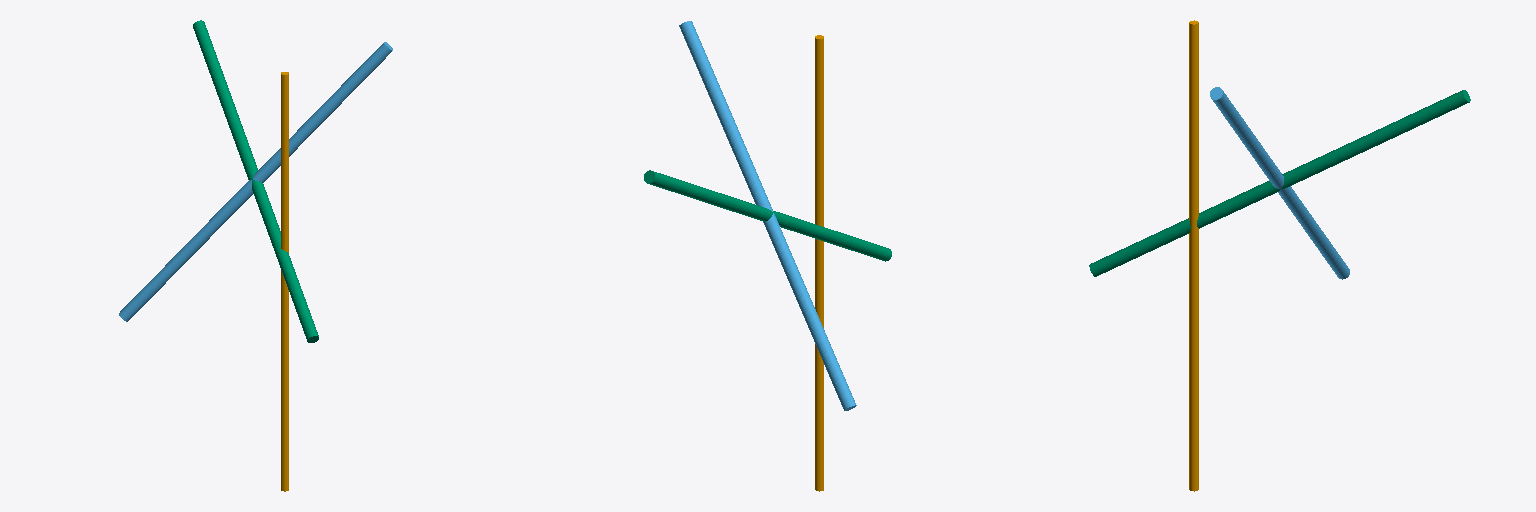
robot.urdf — pepe:
<?xml version="1.0"?><robot name="pepe">
	<link name="0">
		<visual>
			<geometry>
				<cylinder length="5.9994" radius="0.05622985604668819"/>
			</geometry>
		</visual>
		<collision>
			<geometry>
				<cylinder length="5.9994" radius="0.05622985604668819"/>
			</geometry>
		</collision>
		<inertial>
			<mass value="0.059592504070729656"/>
			<inertia ixx="0.03" iyy="0.03" izz="0.03" ixy="0" ixz="0" iyx="0"/>
		</inertial>
	</link>
	<link name="11">
		<visual>
			<geometry>
				<cylinder length="5.132033439318215" radius="0.08254070576775953"/>
			</geometry>
		</visual>
		<collision>
			<geometry>
				<cylinder length="5.132033439318215" radius="0.08254070576775953"/>
			</geometry>
		</collision>
		<inertial>
			<mass value="0.10984383983084968"/>
			<inertia ixx="0.03" iyy="0.03" izz="0.03" ixy="0" ixz="0" iyx="0"/>
		</inertial>
	</link>
	<link name="12">
		<visual>
			<geometry>
				<cylinder length="5.132033439318215" radius="0.08254070576775953"/>
			</geometry>
		</visual>
		<collision>
			<geometry>
				<cylinder length="5.132033439318215" radius="0.08254070576775953"/>
			</geometry>
		</collision>
		<inertial>
			<mass value="0.10984383983084968"/>
			<inertia ixx="0.03" iyy="0.03" izz="0.03" ixy="0" ixz="0" iyx="0"/>
		</inertial>
	</link>
	<joint name="11_to_0" type="revolute">
		<parent link="0"/>
		<child link="11"/>
		<axis xyz="0 0 1"/>
		<limit effort="1" upper="-3.1415" lower="3.1415" velocity="1"/>
		<origin rpy="3.5894739431708023 2.525205402026835 3.3949902921447648" xyz="0.1399996472754691 0.9981048706401453 0.9999"/>
	</joint>
	<joint name="12_to_0" type="revolute">
		<parent link="0"/>
		<child link="12"/>
		<axis xyz="0 0 1"/>
		<limit effort="1" upper="-3.1415" lower="3.1415" velocity="1"/>
		<origin rpy="5.384210914756204 2.525205402026835 3.3949902921447648" xyz="0.1399996472754691 0.9981048706401453 0.9999"/>
	</joint>
</robot>

--- What the picture shows (computed from the rendered views, not written in the file) ---
The picture shows the robot from 3 angles, left to right: view 1: azimuth 30°, elevation 25°; view 2: azimuth 150°, elevation 25°; view 3: azimuth 270°, elevation 25°; orthographic projection.
Robot: pepe — 3 links, 2 joints (2 revolute); root link 0; default pose: every joint at zero.
Links seen in each view (by area): view 1: 11, 12, 0; view 2: 11, 0, 12; view 3: 12, 0, 11.
Boxes of the visible links, x1,y1,x2,y2 form: 11: (119, 42, 392, 321); 12: (193, 20, 318, 342); 0: (281, 72, 288, 491); 11: (679, 21, 856, 410); 0: (815, 35, 823, 491); 12: (644, 170, 891, 261); 12: (1089, 90, 1470, 276); 0: (1189, 20, 1198, 491); 11: (1210, 87, 1349, 279).
Bounding box of the posed robot: 3.28 × 4.44 × 6 m (x, y, z).
Geometry: primitives only (box / cylinder / sphere), no mesh files.
